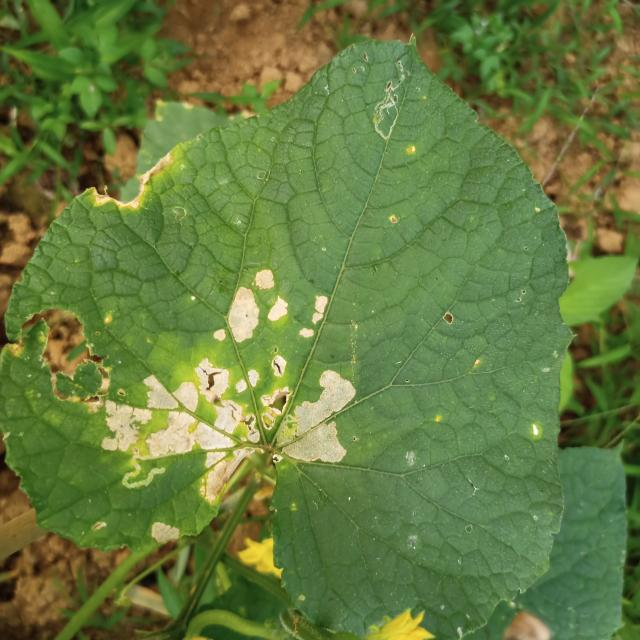disease_cucumber: (97, 259, 367, 503)
